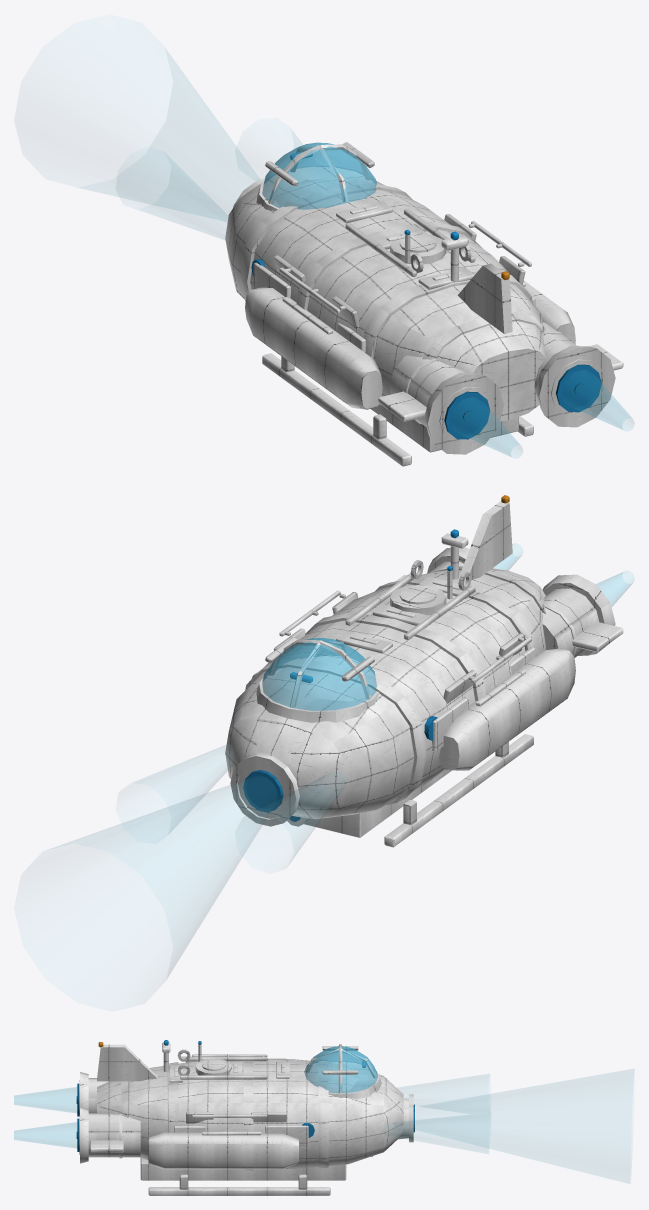
3 renders of one model, top to bottom at view 1: azimuth 30°, elevation 25°; view 2: azimuth 150°, elevation 25°; view 3: azimuth 270°, elevation 25°, orthographic. The views are drawn at different scales.
Parts seen in each view (by area): view 1: DL001_ScoutSub_graphite_navy, DL001_ScoutSub_hull_offwhite, DL001_ScoutSub_fx_beam_cyan, DL001_ScoutSub_glass_cyan, DL001_ScoutSub_emissive_cyan, DL001_ScoutSub_amber_accent, DL001_ScoutSub_fx_halo_cyan, DL001_ScoutSub_titanium_t; view 2: DL001_ScoutSub_graphite_navy, DL001_ScoutSub_hull_offwhite, DL001_ScoutSub_fx_beam_cyan, DL001_ScoutSub_glass_cyan, DL001_ScoutSub_amber_accent, DL001_ScoutSub_emissive_cyan, DL001_ScoutSub_titanium_t, DL001_ScoutSub_fx_halo_cyan; view 3: DL001_ScoutSub_graphite_navy, DL001_ScoutSub_fx_beam_cyan, DL001_ScoutSub_hull_offwhite, DL001_ScoutSub_glass_cyan, DL001_ScoutSub_fx_halo_cyan, DL001_ScoutSub_amber_accent, DL001_ScoutSub_titanium_t, DL001_ScoutSub_emissive_cyan.
Part boxes in pixels (x1,y1,x2,y2): DL001_ScoutSub_graphite_navy: [233, 142, 623, 466]; DL001_ScoutSub_hull_offwhite: [225, 176, 546, 421]; DL001_ScoutSub_fx_beam_cyan: [79, 49, 302, 239]; DL001_ScoutSub_glass_cyan: [262, 142, 376, 209]; DL001_ScoutSub_emissive_cyan: [251, 152, 601, 439]; DL001_ScoutSub_amber_accent: [253, 204, 573, 423]; DL001_ScoutSub_fx_halo_cyan: [463, 375, 632, 456]; DL001_ScoutSub_titanium_t: [279, 221, 531, 313]; DL001_ScoutSub_graphite_navy: [230, 501, 623, 847]; DL001_ScoutSub_hull_offwhite: [225, 568, 546, 819]; DL001_ScoutSub_fx_beam_cyan: [52, 745, 343, 977]; DL001_ScoutSub_glass_cyan: [262, 638, 376, 710]; DL001_ScoutSub_amber_accent: [350, 580, 576, 751]; DL001_ScoutSub_emissive_cyan: [243, 529, 458, 821]; DL001_ScoutSub_titanium_t: [279, 560, 531, 683]; DL001_ScoutSub_fx_halo_cyan: [494, 544, 632, 606]; DL001_ScoutSub_graphite_navy: [79, 1042, 413, 1195]; DL001_ScoutSub_fx_beam_cyan: [388, 1069, 633, 1183]; DL001_ScoutSub_hull_offwhite: [97, 1059, 403, 1168]; DL001_ScoutSub_glass_cyan: [304, 1046, 377, 1093]; DL001_ScoutSub_fx_halo_cyan: [14, 1087, 76, 1148]; DL001_ScoutSub_amber_accent: [119, 1059, 308, 1158]; DL001_ScoutSub_titanium_t: [177, 1049, 267, 1117]; DL001_ScoutSub_emissive_cyan: [76, 1040, 414, 1151].
Bounding box in the file's own units: 4.28 × 3.85 × 15.69.
9 materials, 4 textured.
